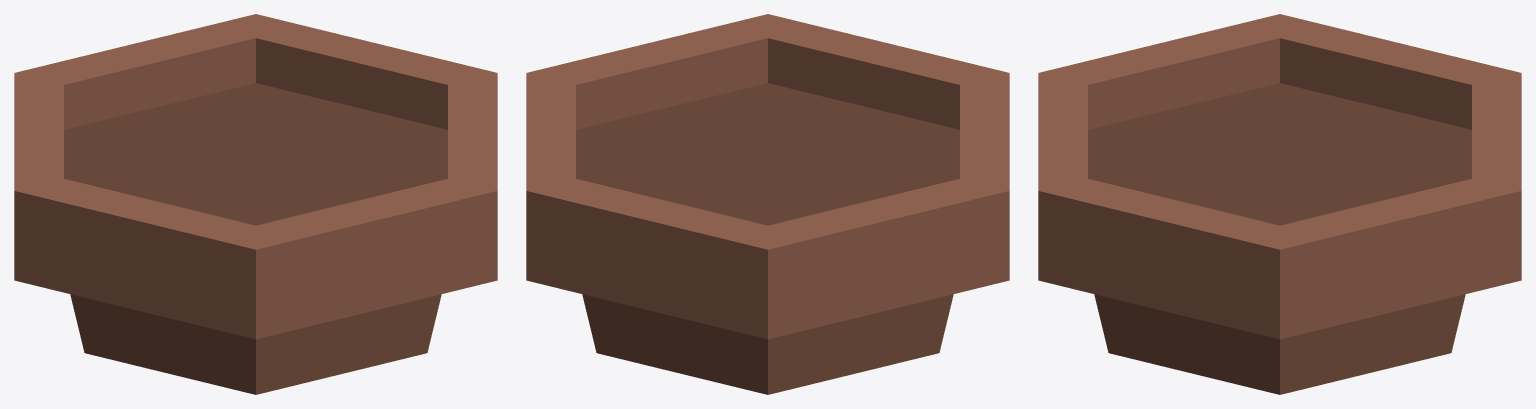
File: pot_large.glb
3 views of the same model, side by side, from view 1: azimuth 30°, elevation 25°; view 2: azimuth 150°, elevation 25°; view 3: azimuth 270°, elevation 25° (orthographic).
Visible parts, largest first — view 1: pot_large; view 2: pot_large; view 3: pot_large.
Boxes of the visible parts, x1=… form: pot_large: x1=14, y1=14, x2=497, y2=394; pot_large: x1=526, y1=14, x2=1009, y2=394; pot_large: x1=1038, y1=14, x2=1521, y2=394.
Size of the model in its own units: 0.5636 by 0.2 by 0.4881.
